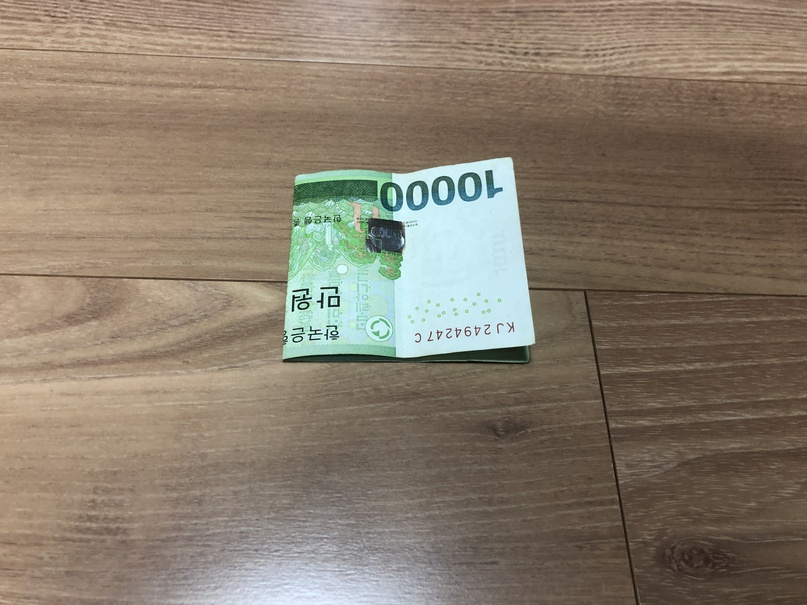10000won: (282, 157, 536, 366)
